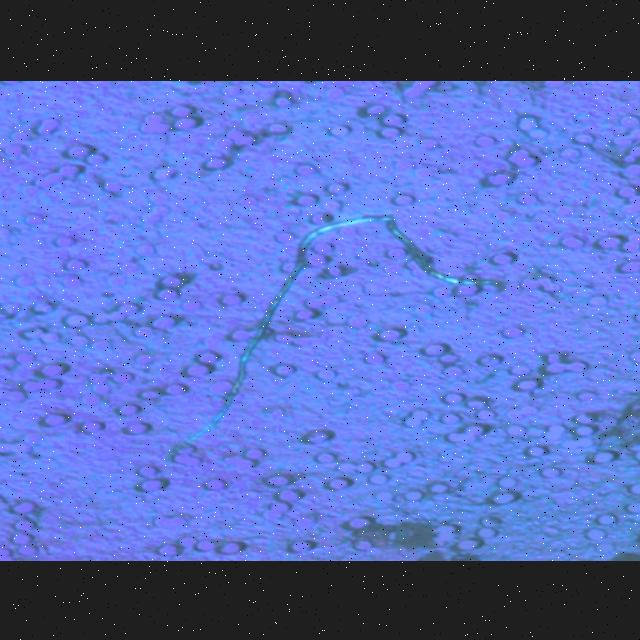Fibre: (156, 206, 518, 469)
